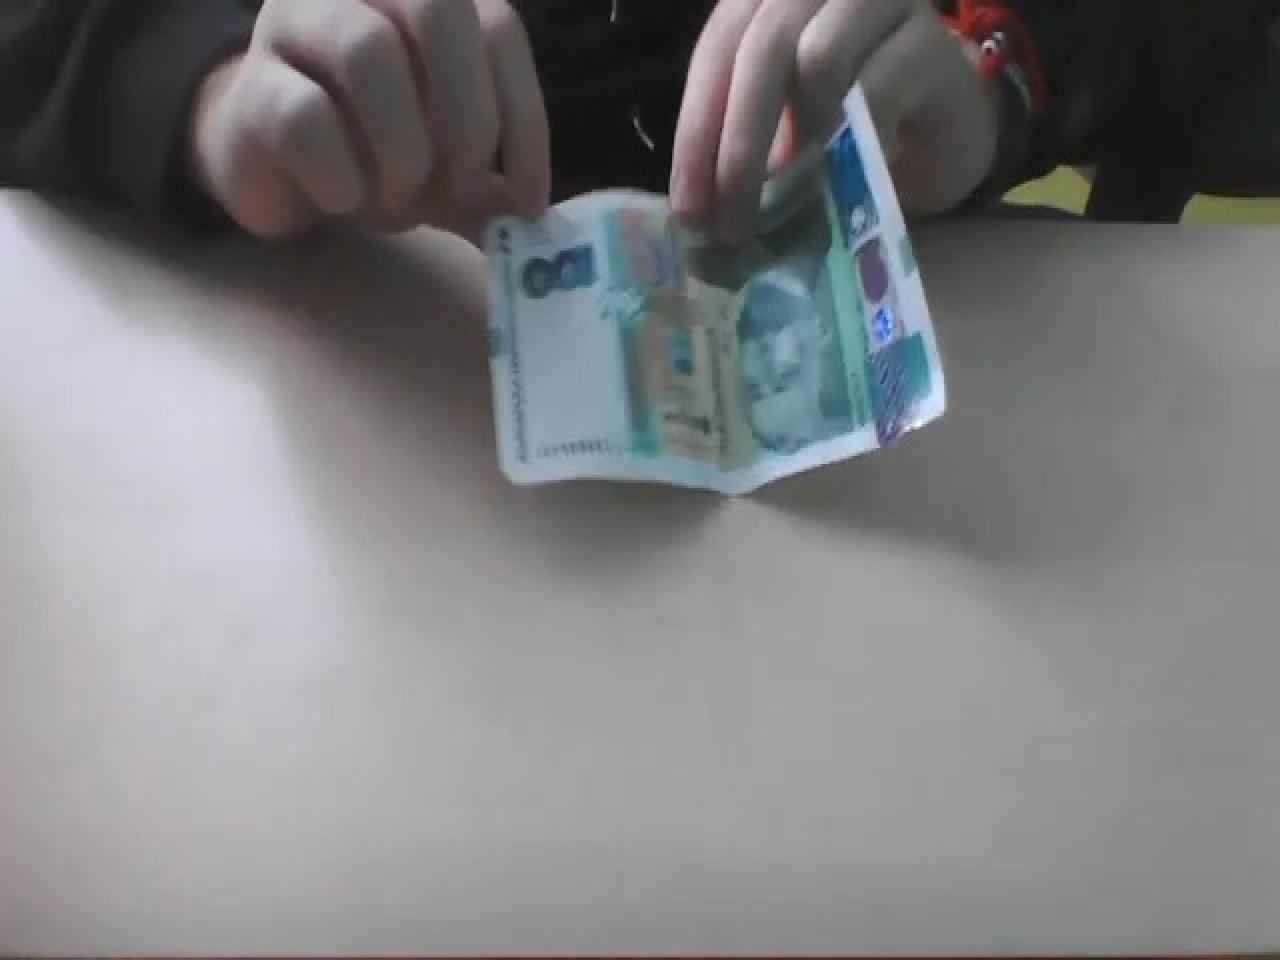100leva: (478, 115, 948, 501)
